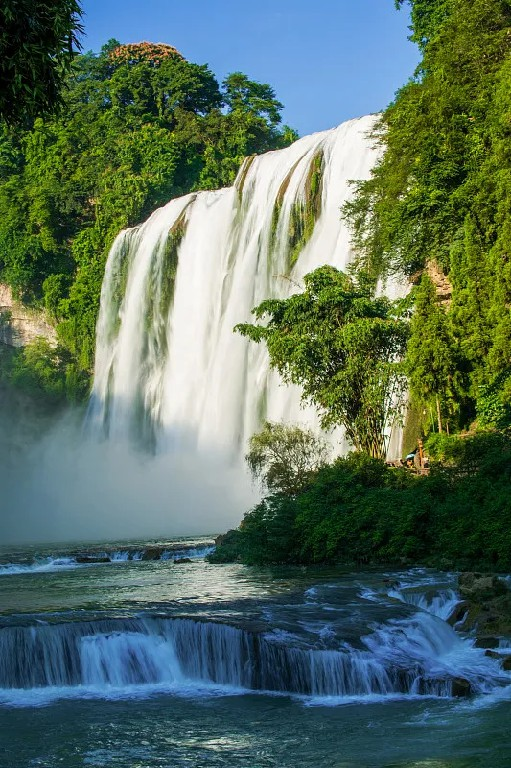Huangguoshu: (91, 114, 404, 513)
